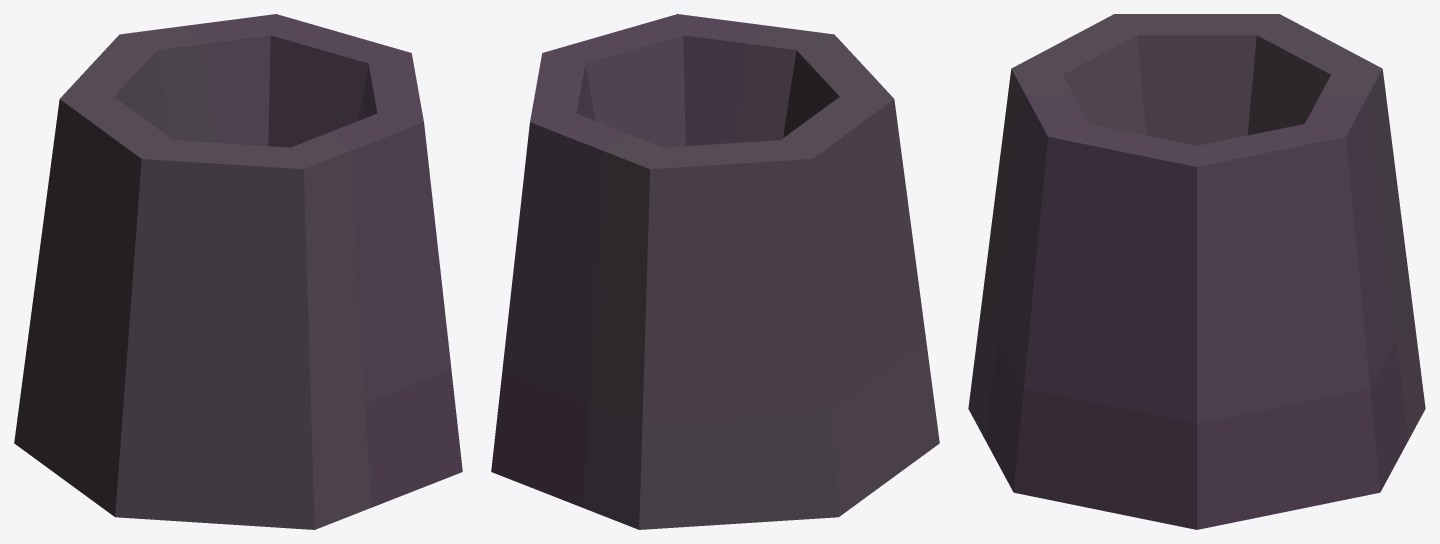
The model's file is SS_Well.fbx.
3 renders of one model, left to right at view 1: azimuth 30°, elevation 25°; view 2: azimuth 150°, elevation 25°; view 3: azimuth 270°, elevation 25°, orthographic.
Visible parts, largest first — view 1: Well; view 2: Well; view 3: Well.
Part boxes in pixels (<box>): Well: <box>14,14,462,529</box>; Well: <box>491,14,939,529</box>; Well: <box>968,14,1425,529</box>.
Bounding box in the file's own units: 1.4 × 1.2 × 1.44.
